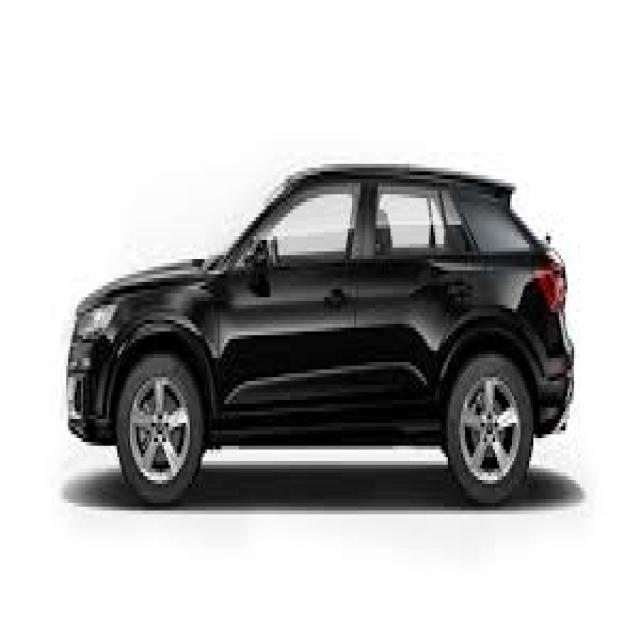black: (66, 169, 574, 523)
